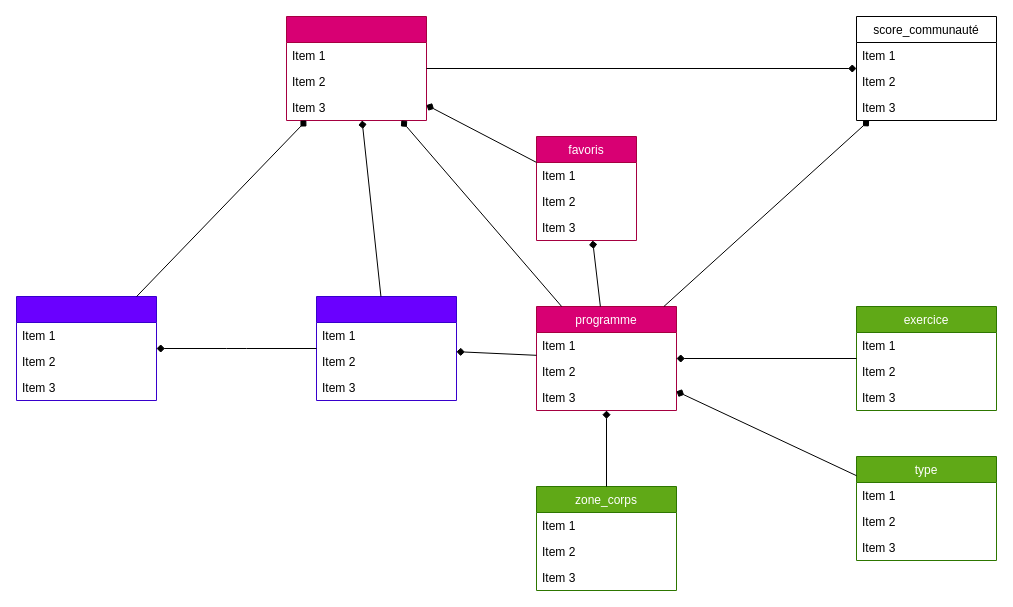
Image size: 1013x607. Some labels were removed from this diagram. Here are the shapes that lost their labels. From the top down, the box of each, then its label:
(286, 16, 426, 120): utilsateur
(16, 296, 156, 400): historique
(316, 296, 456, 400): seance
